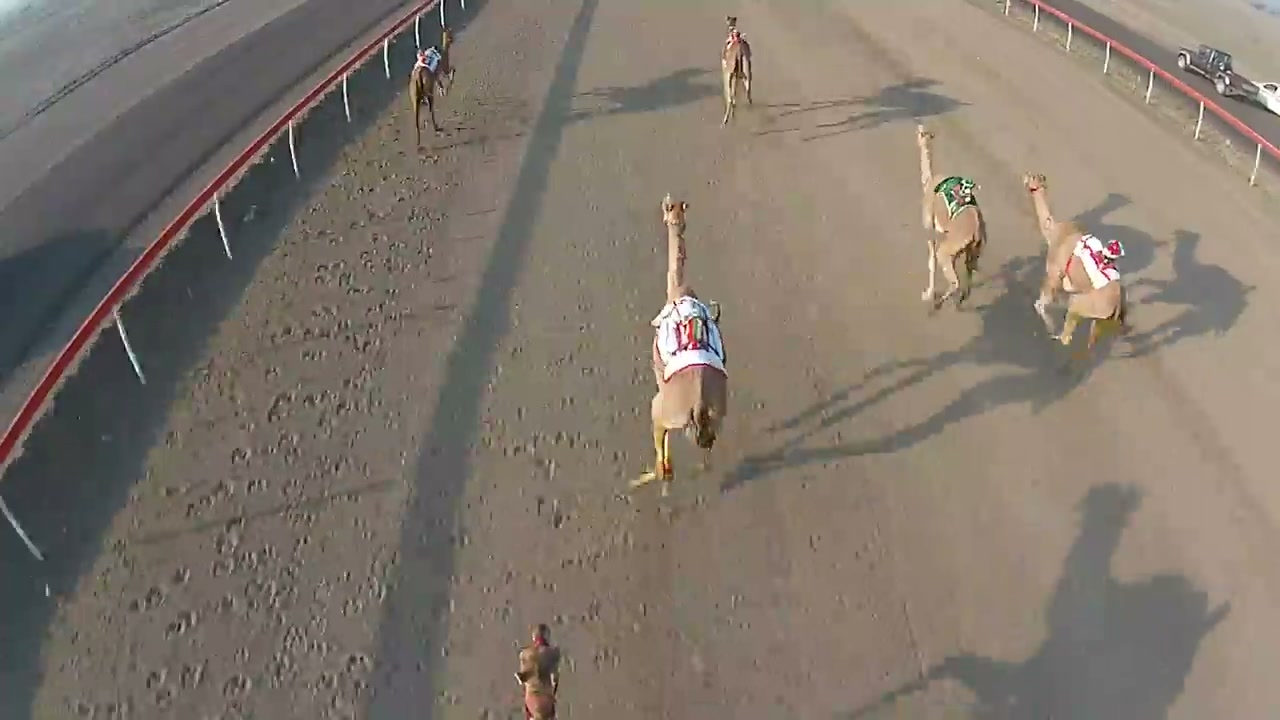animal_foot_print: (140, 132, 449, 706)
